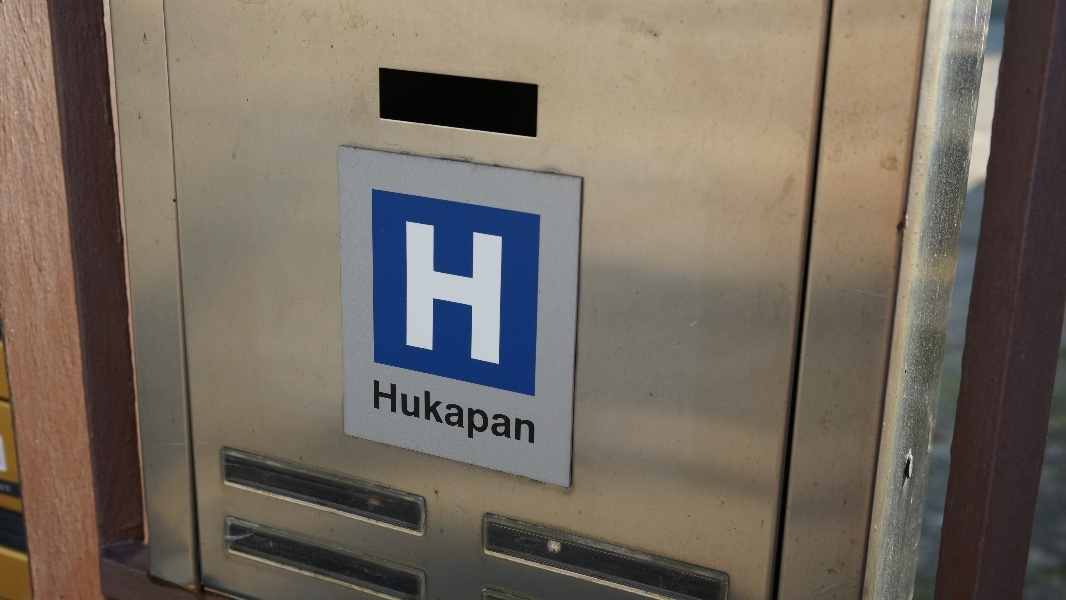text: (417, 220, 432, 368), (433, 220, 448, 368), (449, 220, 464, 368), (465, 220, 480, 368), (481, 220, 496, 368), (405, 220, 416, 368), (385, 379, 400, 455), (401, 379, 416, 455), (417, 379, 432, 455), (433, 379, 448, 455), (449, 379, 464, 455), (465, 379, 480, 455), (481, 379, 496, 455), (497, 379, 512, 455), (513, 379, 528, 455), (497, 220, 504, 368), (373, 379, 384, 455), (529, 379, 537, 455)
